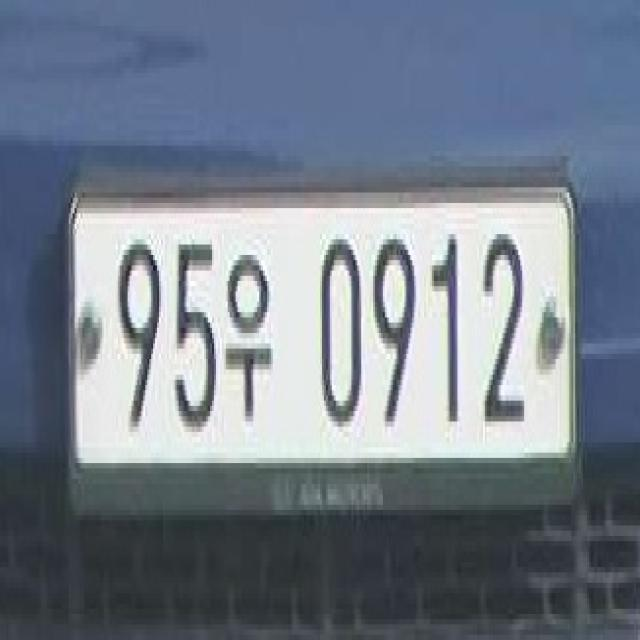plat: (64, 157, 582, 518)
